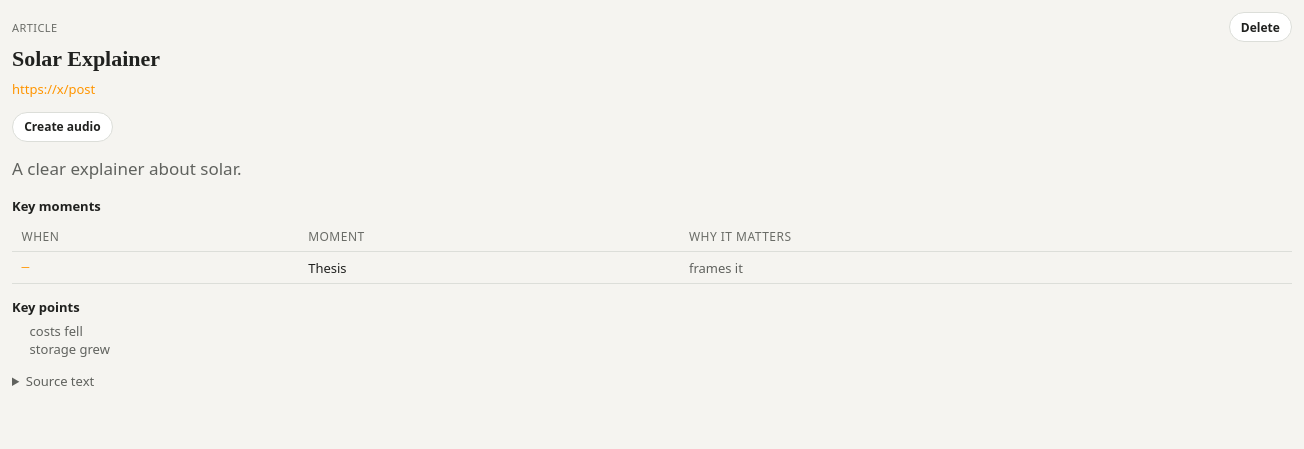
Test: ItemDetail › starts item summary audio generation
Click the button "Create audio": (62, 127) [12, 112, 113, 142]
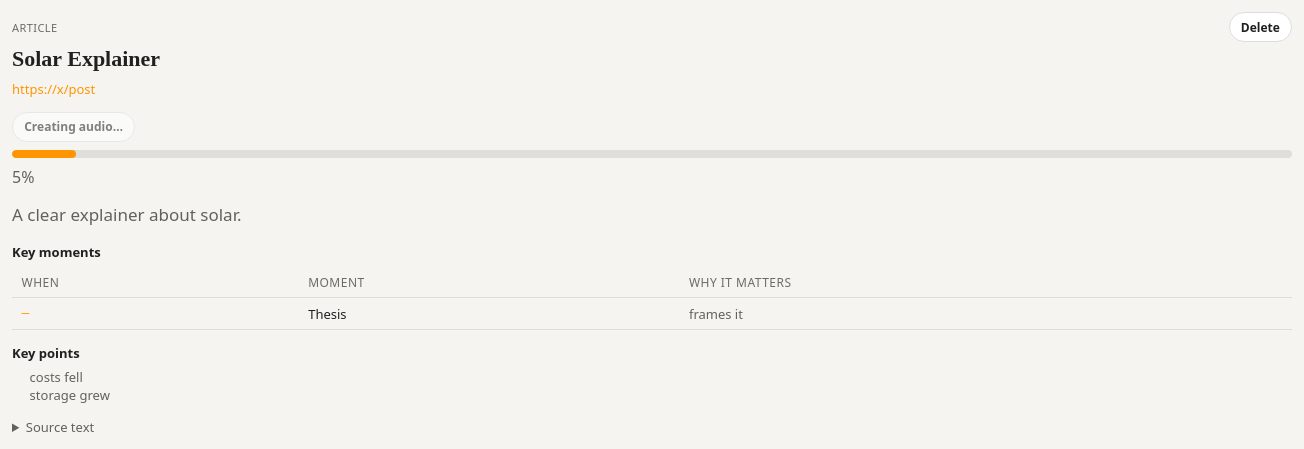
Result: the message "Creating audio… 5%" is shown at [12, 112, 1292, 188]
